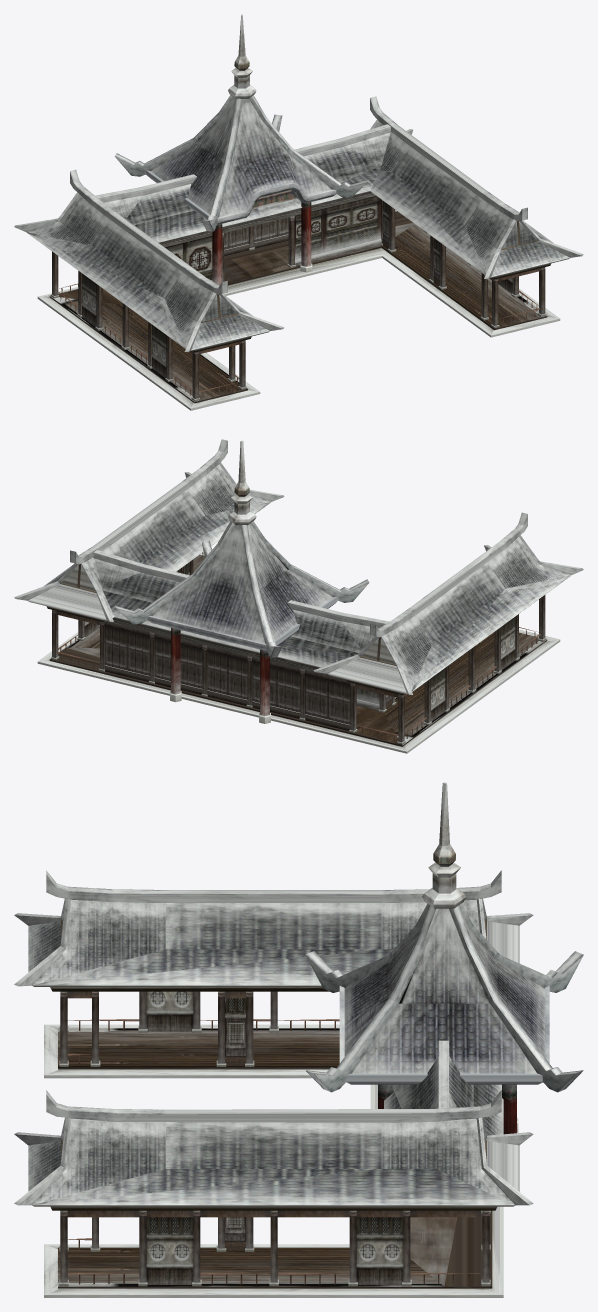
The model's file is snow_building04_lod_01.fbx.
3 views of the same model, one above another, from view 1: azimuth 30°, elevation 25°; view 2: azimuth 150°, elevation 25°; view 3: azimuth 270°, elevation 25° (orthographic). The views are drawn at different scales.
Parts seen in each view (by area): view 1: snow_building04; view 2: snow_building04; view 3: snow_building04.
Boxes of the visible parts, x1,y1,x2,y2 form: snow_building04: (14, 14, 583, 410); snow_building04: (14, 439, 583, 753); snow_building04: (14, 782, 583, 1297).
Size of the model in its own units: 69.19 by 41.96 by 57.02.
